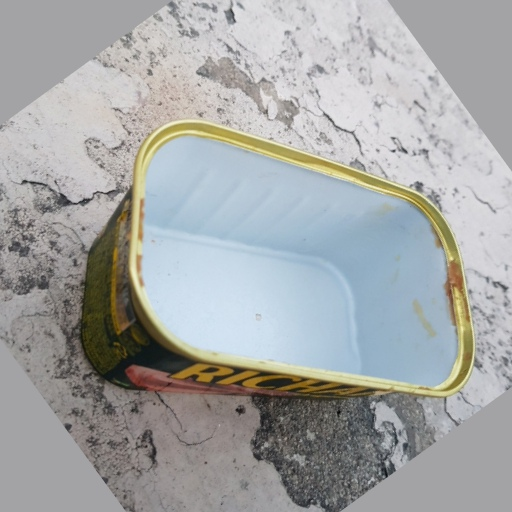Metal_2: (81, 117, 476, 404)
